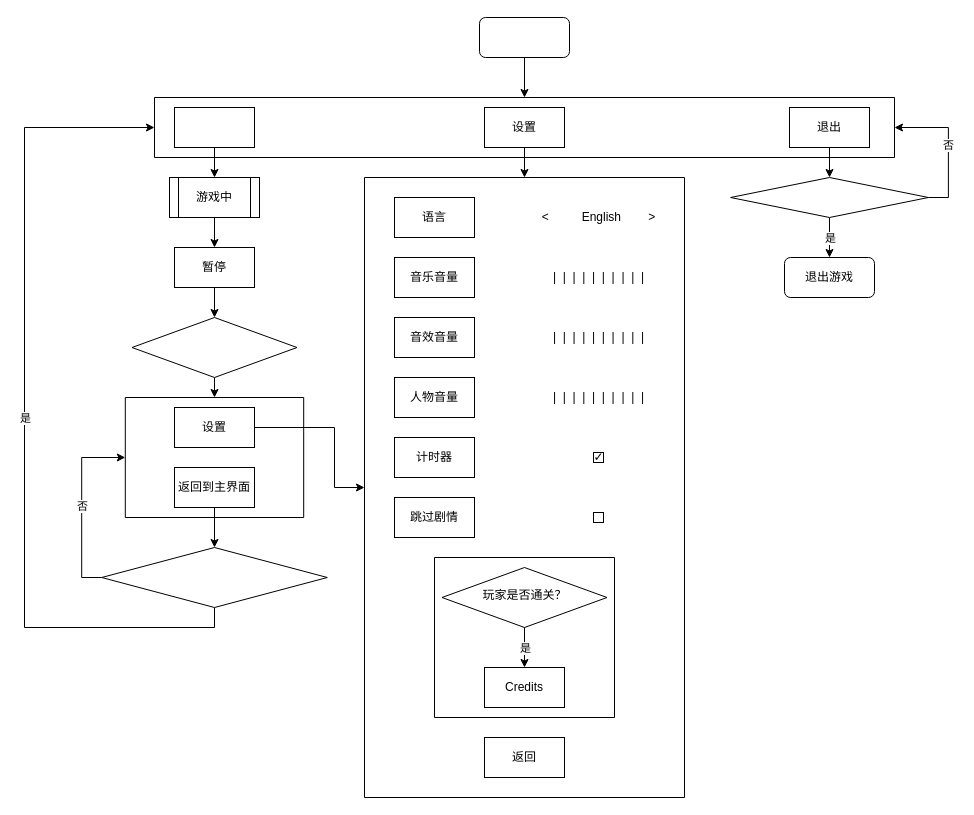
This 974x815 diagram has some shape labels left out. Each missing label, with the centre of its shape:
"开始游戏" belongs at [214,127].
"是否退出？" belongs at [829,197].
"玩家能否暂停？" belongs at [214,347].
"进入游戏" belongs at [524,37].
"退出将失去一切进度，是否退出？" belongs at [214,577].
